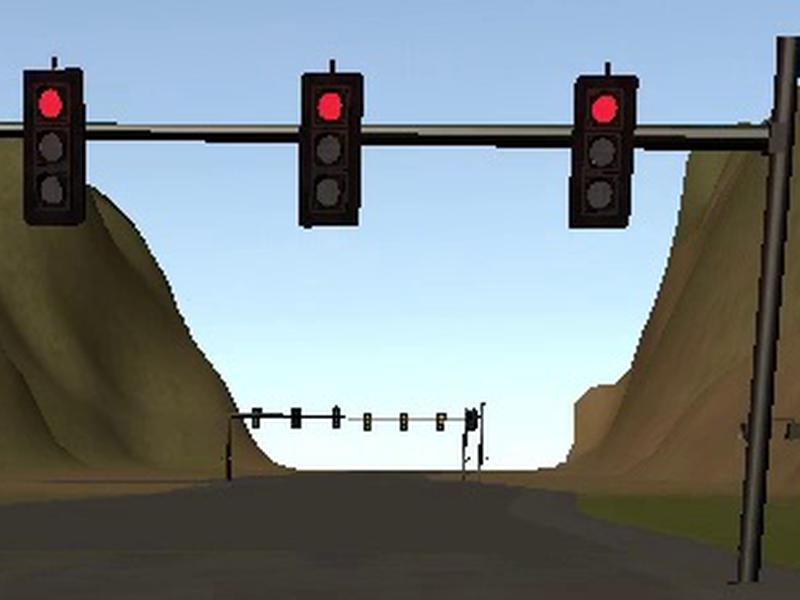Red: (569, 76, 637, 227), (301, 72, 362, 224), (23, 71, 82, 222)
